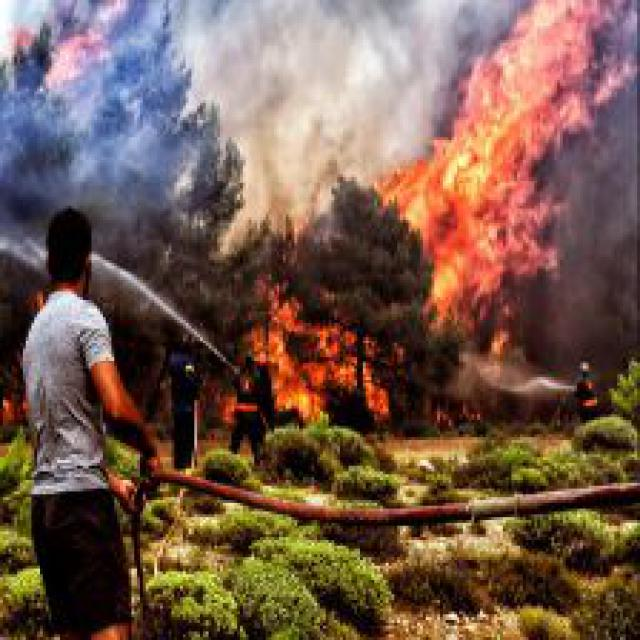fire: (217, 3, 632, 434)
